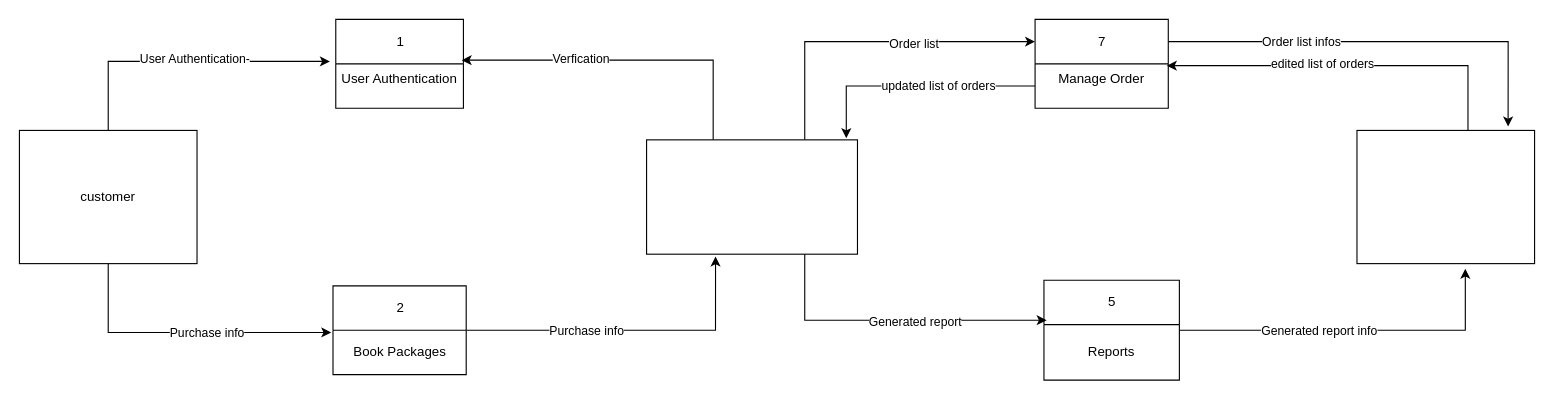
This 1554x400 diagram has some shape labels left out. The box of each missing label's shape, as (x1, y1, x2, y2) in pixels:
Admin: (1356, 129, 1535, 264)
Travel System: (645, 139, 857, 254)
